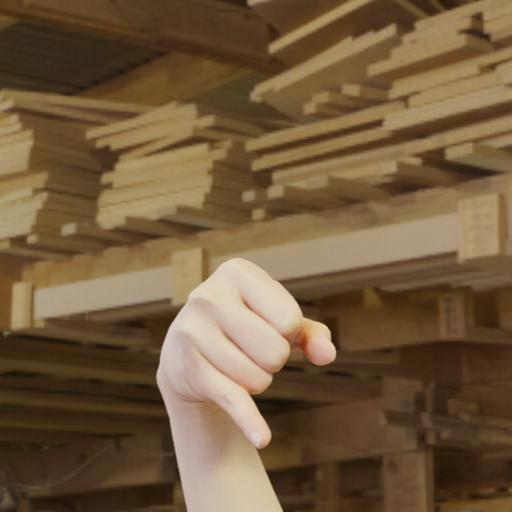J: (143, 258, 359, 512)
